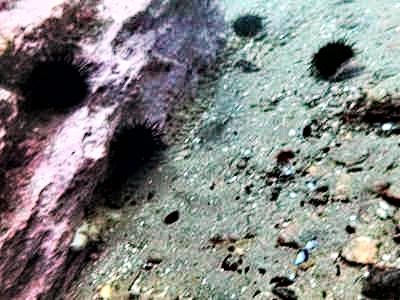urchin: (101, 117, 169, 182), (18, 51, 90, 111), (305, 35, 357, 79), (230, 8, 266, 41)
